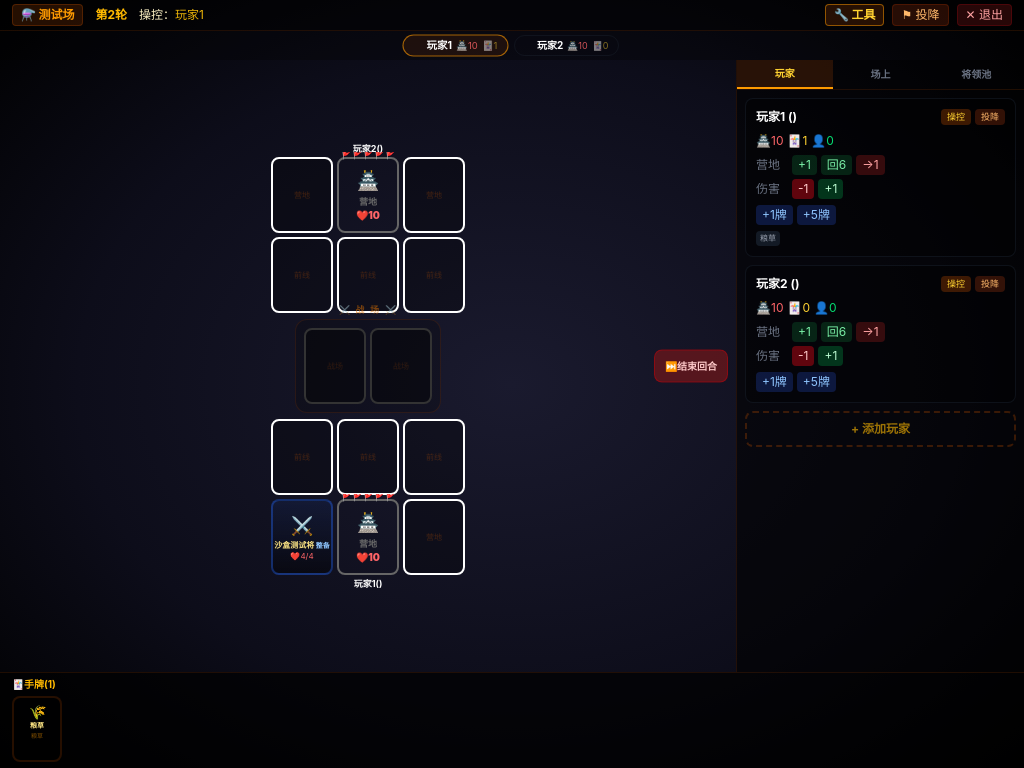
Test: 演练场整备可见性＋放行接线（v2.8.41） › ① 点开详情卡：既有「整备中」徽章，说明句也只写真实放行的那一半
Step 1. Click the button "⚔️ 沙盒测试将 整备 ❤️4/4" → (302, 537), box [271, 499, 333, 575]
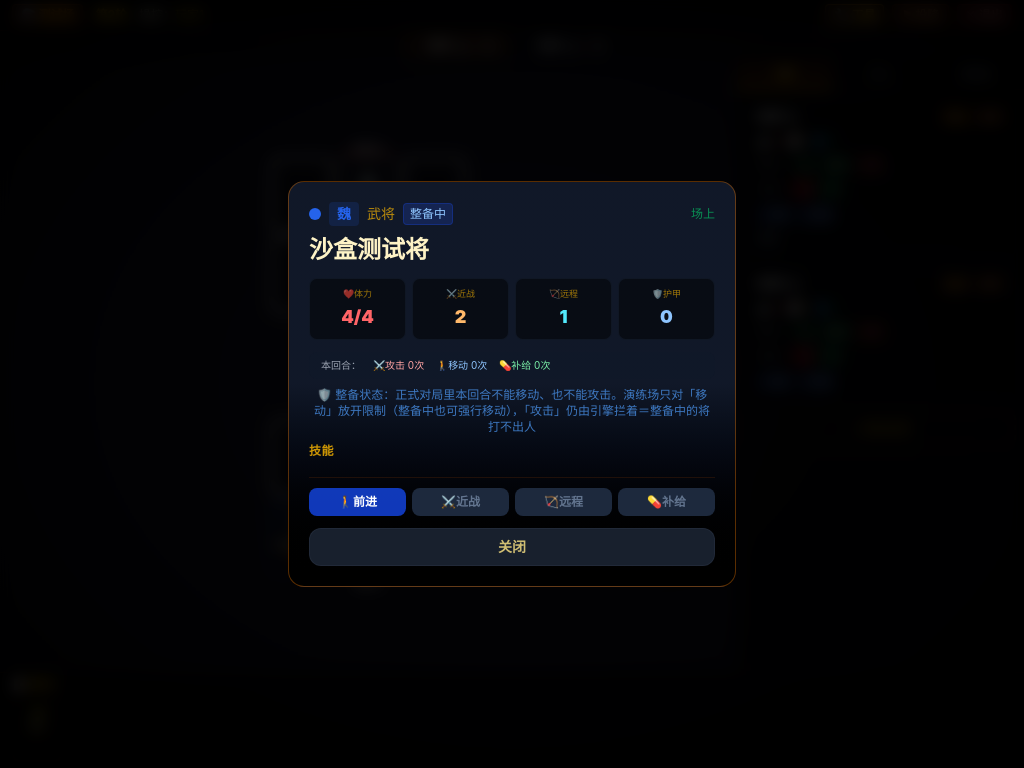
Expected: the text "只对「移动」放开限制" is shown, [314, 387, 710, 434]
Expected: the text "「攻击」仍由引擎拦着" is shown, [314, 387, 710, 434]
